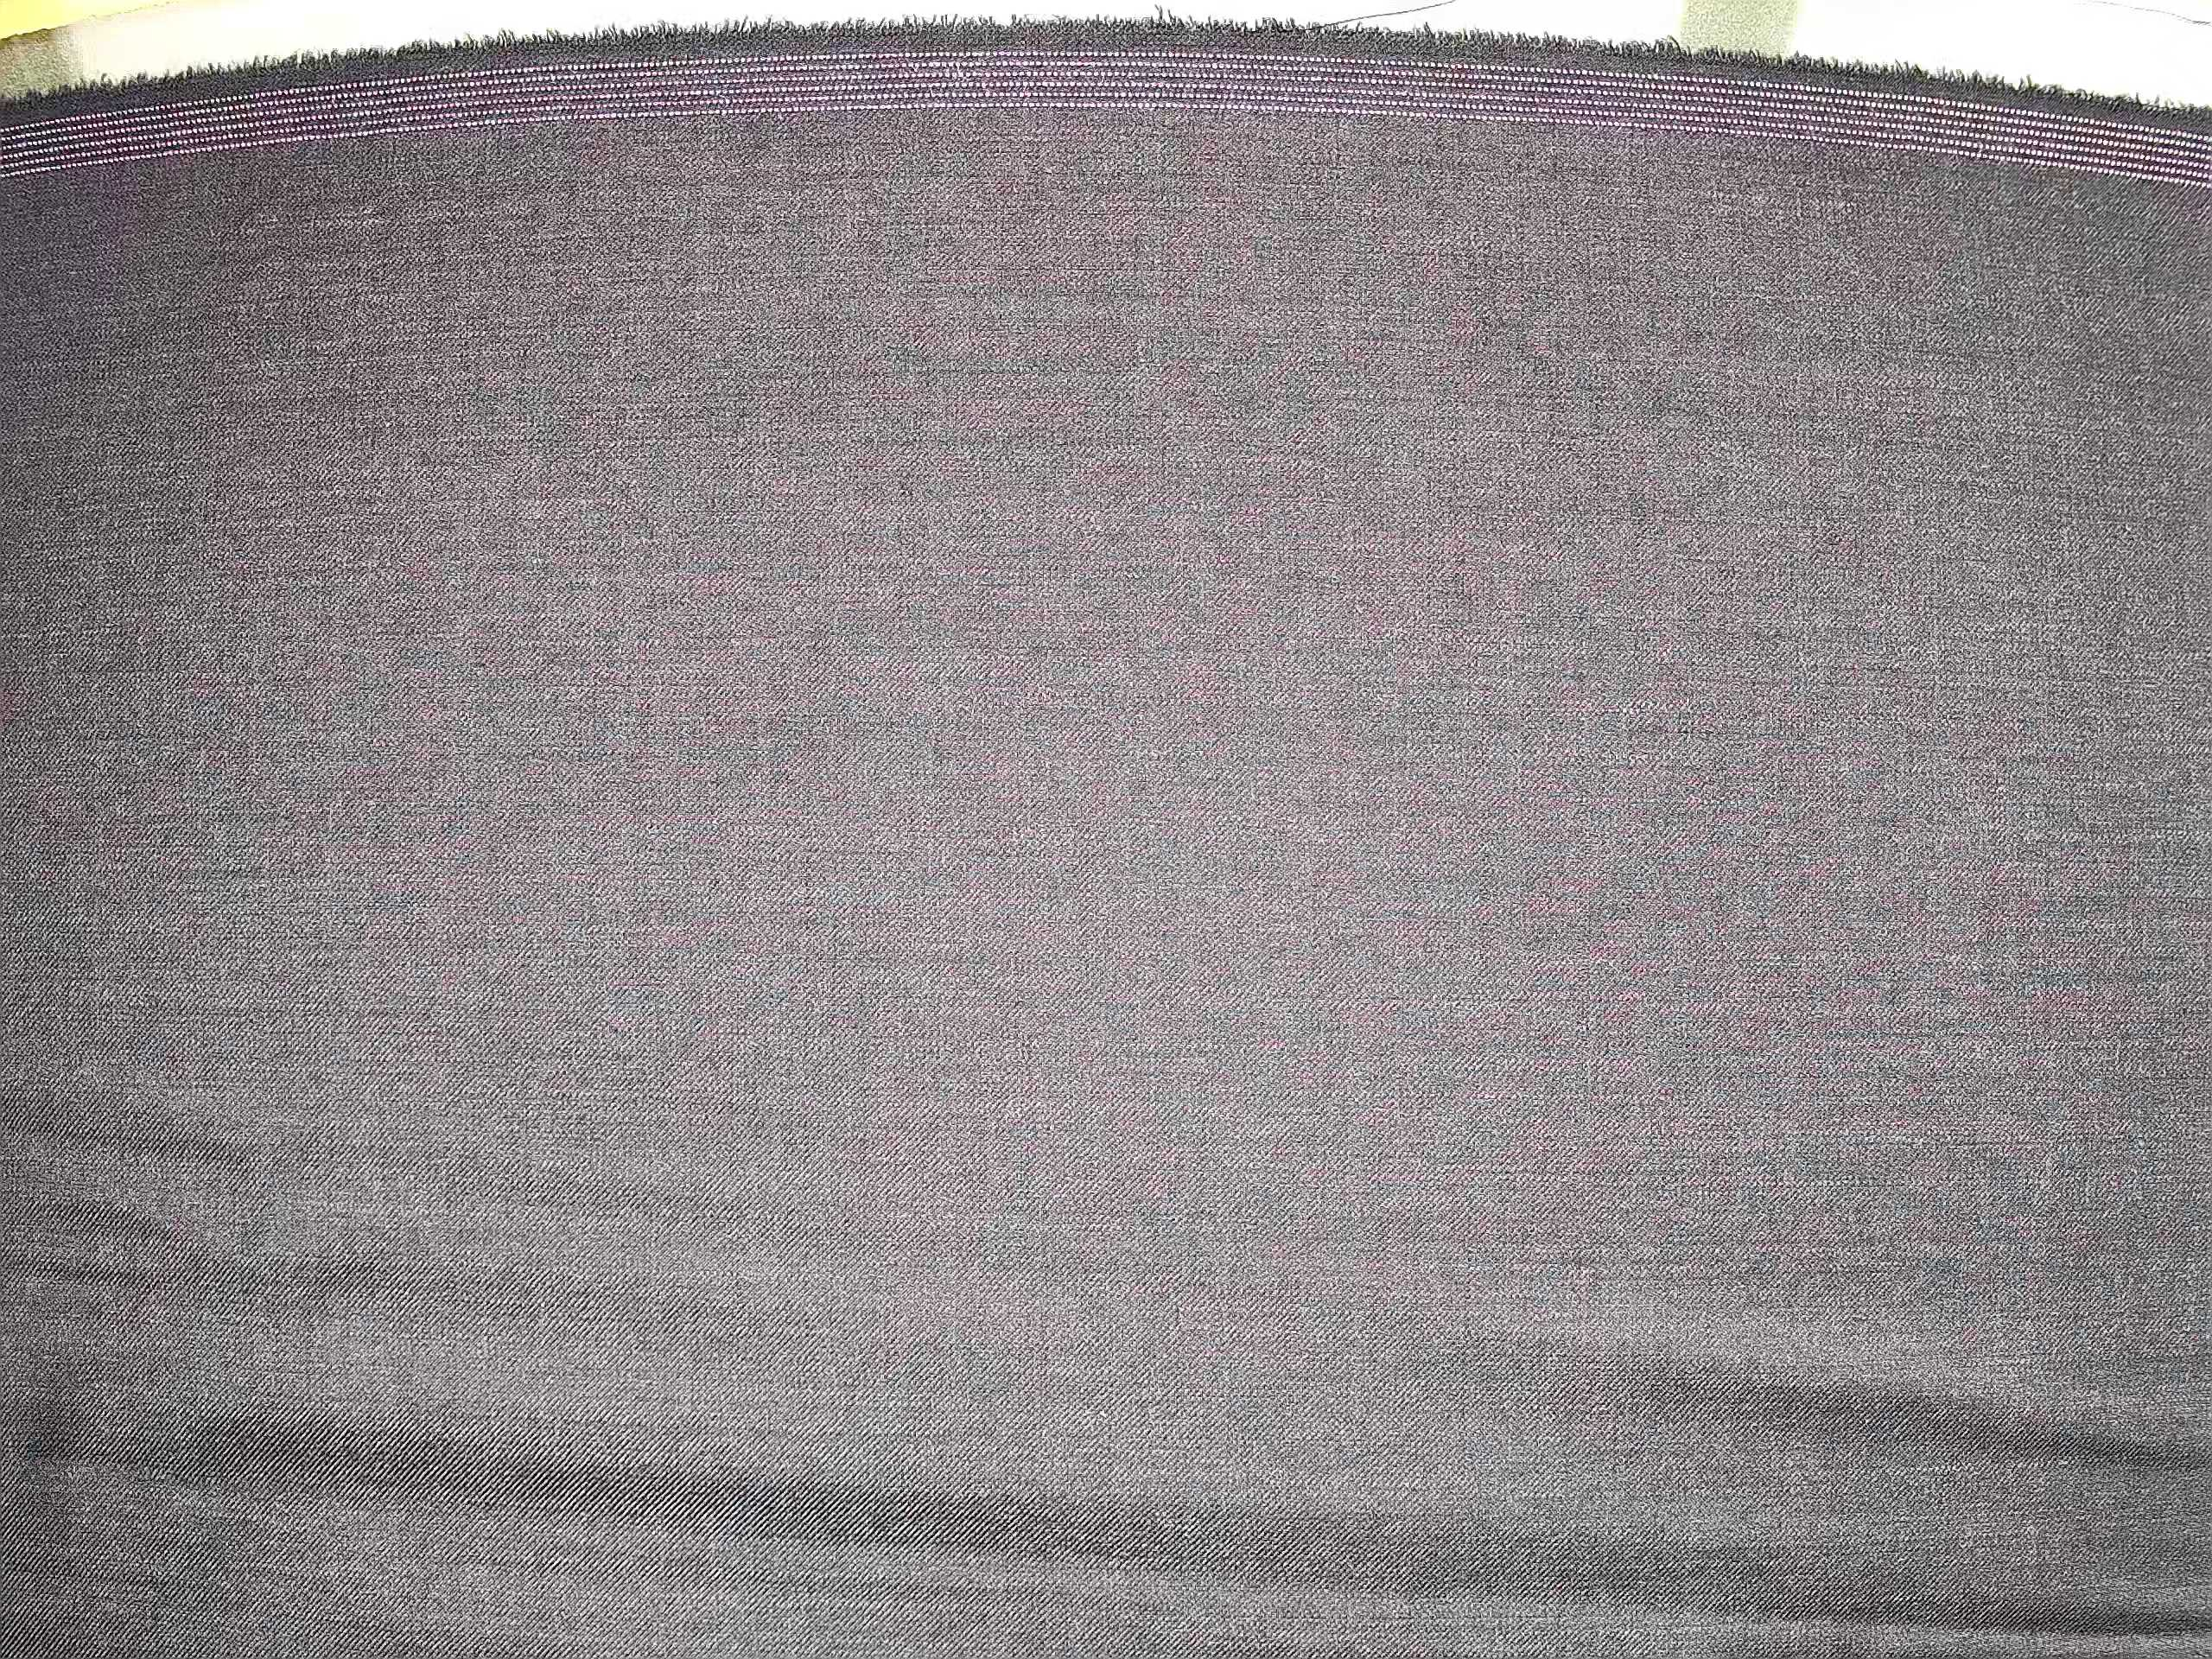others: (273, 61, 1916, 164)
